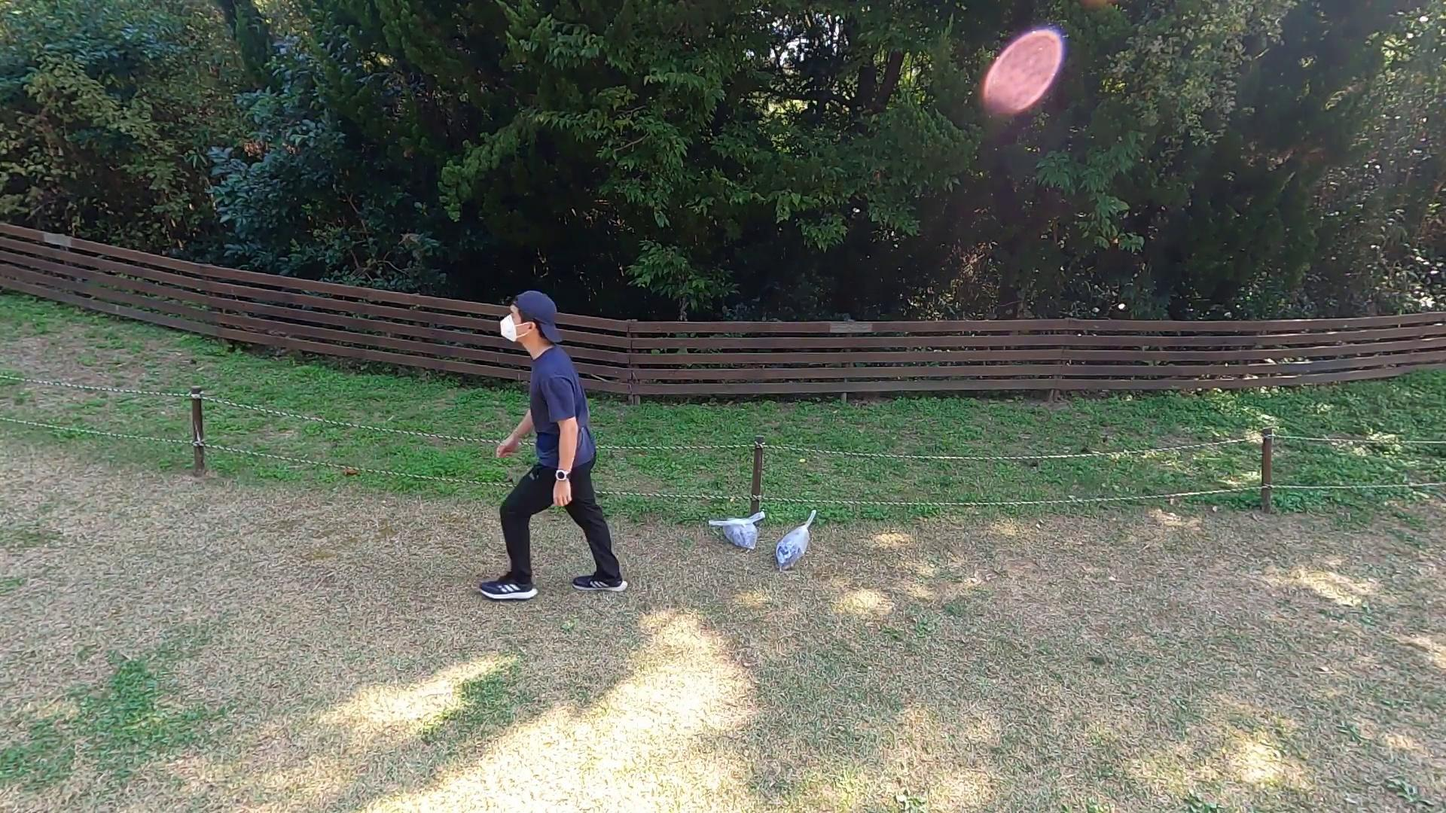person: (475, 287, 634, 597)
trash: (772, 510, 817, 574), (708, 512, 768, 553)
